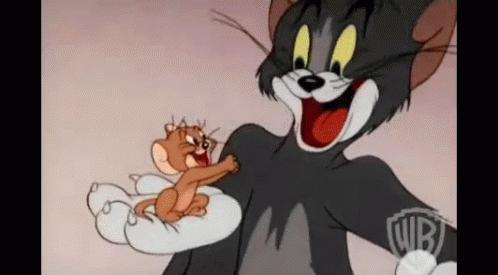jerry: (132, 114, 240, 225)
